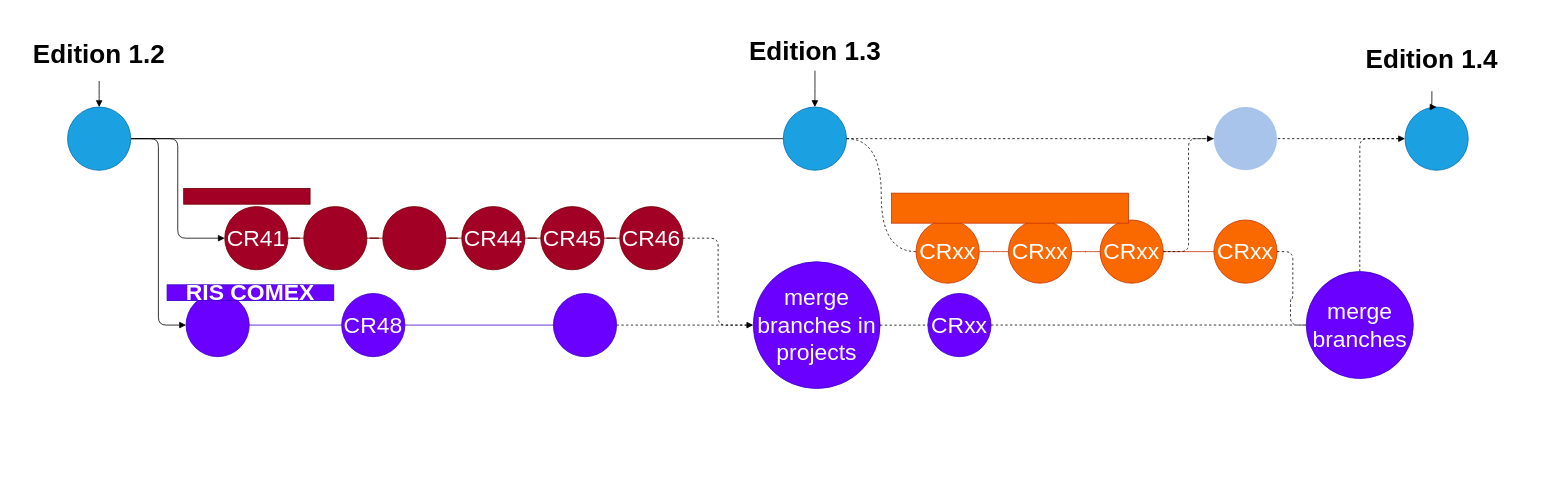
This 1557x484 diagram has some shape labels left out. Each missing label, with the centre of its shape:
"bijection EDIFACT" belongs at (1010,207).
"CR42" belongs at (335,238).
"CR43" belongs at (414,238).
"CR47" belongs at (217,325).
"CR49" belongs at (585,325).
"SWINg" belongs at (246,196).
